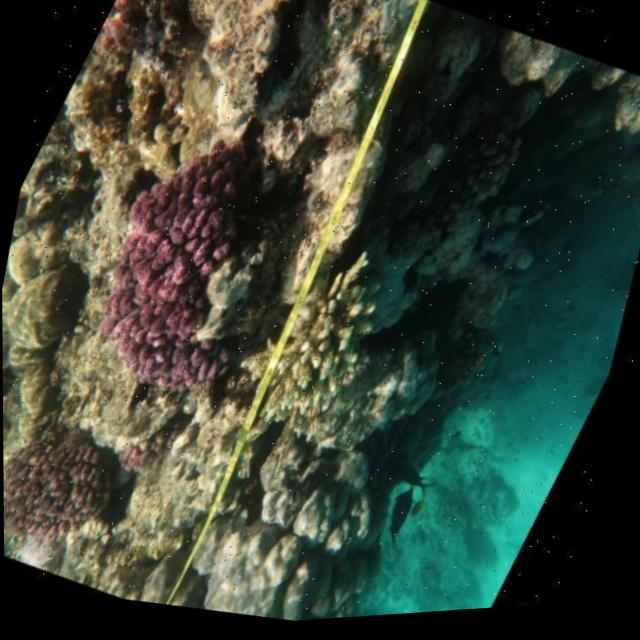Healthy Coral: (58, 94, 294, 408)
